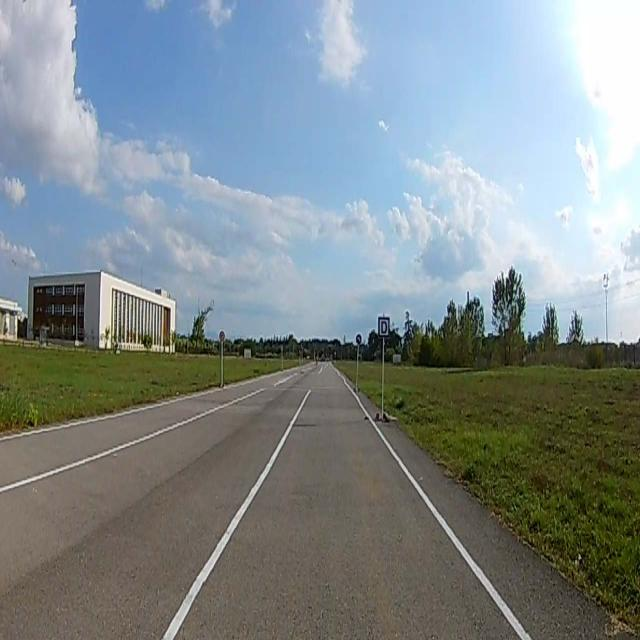durak: (378, 318, 388, 337)
